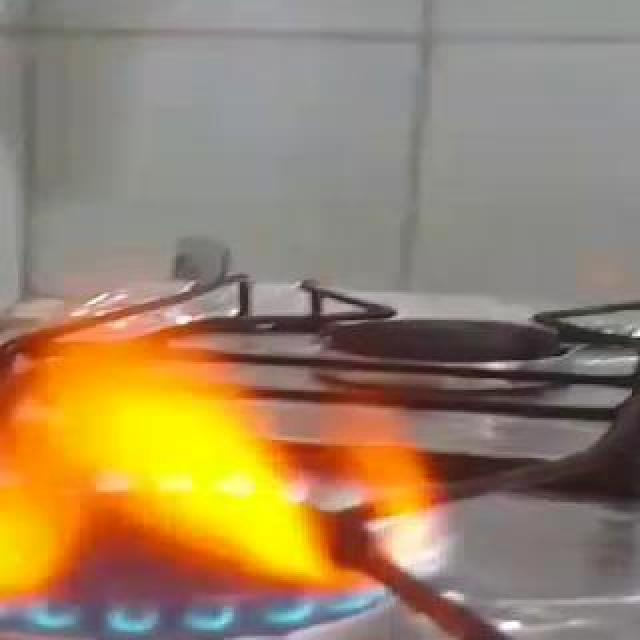fire: (0, 250, 462, 640)
